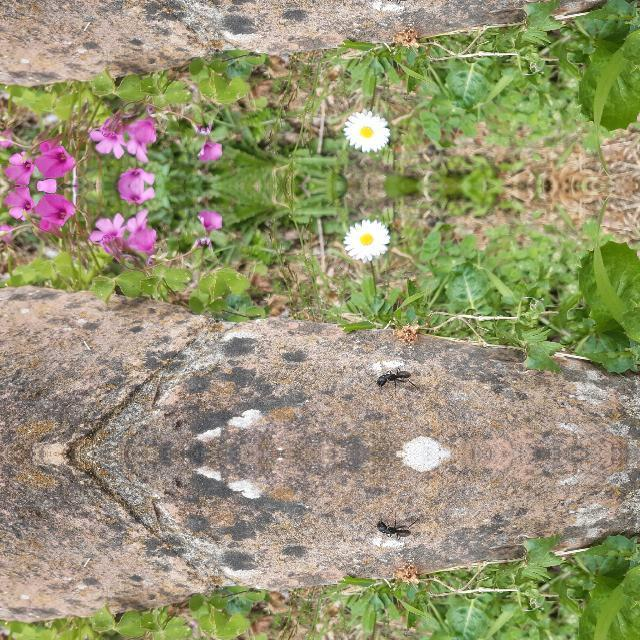Camponotus: (373, 359, 415, 395), (373, 511, 415, 547), (373, 0, 415, 10)
